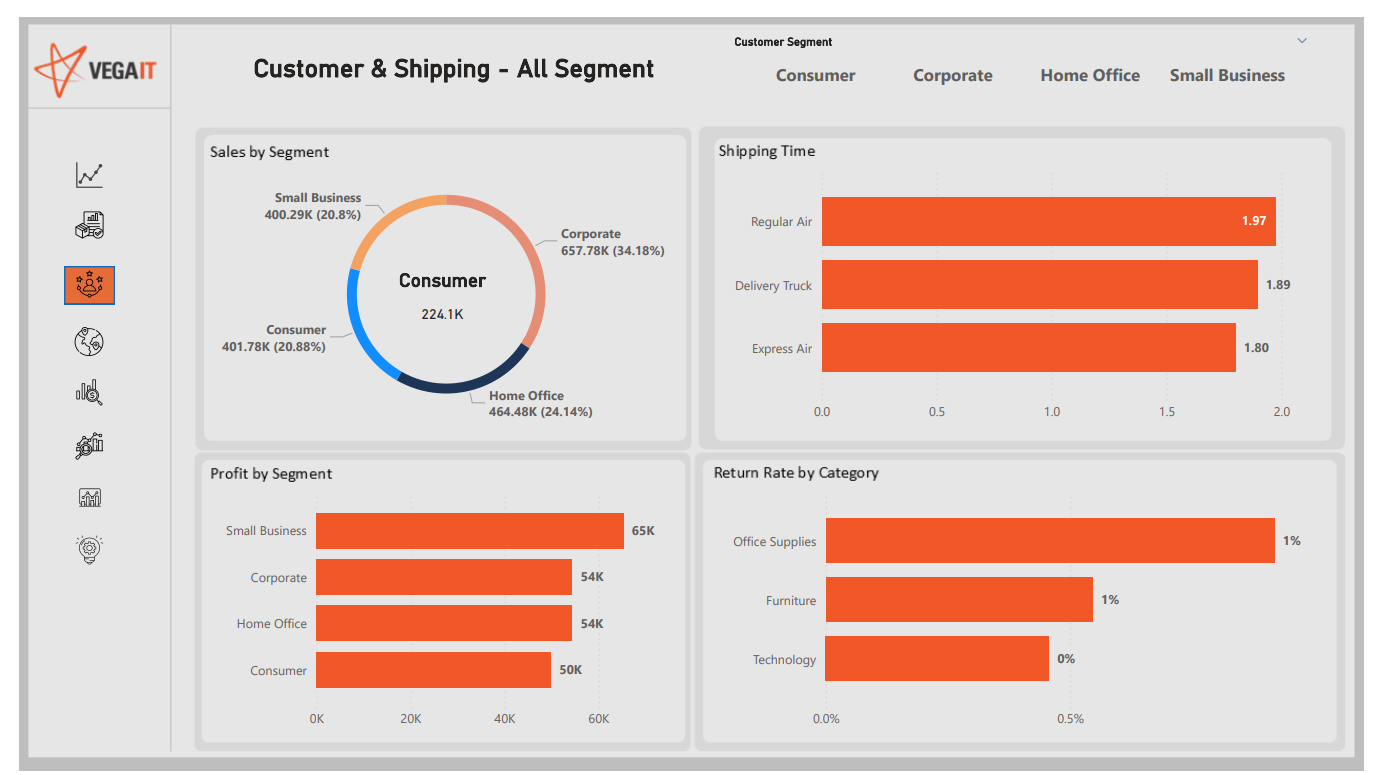

What the dashboard file says about the page in this screenshot:
{"tool":"powerbi","page":{"name":"Customer & Shipping","canvas":[1280,720],"ordinal":2},"visuals":[{"type":"donutChart","fields":{"Y":["Sum(VegaIT_clean_superstore_data.Sales)"],"Category":["VegaIT_clean_superstore_data.Customer Segment"]},"box":[184.5,135.2,443.8,259.3],"z":0},{"type":"shape","box":[42.9,238,47.6,36.5],"z":0,"group":"g1"},{"type":"card","fields":{"Values":["Min(VegaIT_clean_superstore_data.Customer Segment)"]},"box":[334,225.9,138.4,50.9],"z":1000},{"type":"card","fields":{"Values":["Sum(VegaIT_clean_superstore_data.Profit)"]},"box":[367.4,259.3,71.6,50.9],"z":2000},{"type":"slicer","fields":{"Values":["VegaIT_clean_superstore_data.Customer Segment"]},"box":[668.1,12.7,571,70],"z":3000},{"type":"barChart","fields":{"Category":["VegaIT_clean_superstore_data.Customer Segment"],"Y":["Sum(VegaIT_clean_superstore_data.Profit)"]},"box":[184.5,442.2,443.8,245],"z":4000},{"type":"barChart","fields":{"Category":["VegaIT_clean_superstore_data.Ship Mode"],"Y":["Avg(VegaIT_clean_superstore_data.Shipping Days)"]},"box":[668.1,135.2,571,259.3],"z":5000},{"type":"barChart","fields":{"Category":["VegaIT_clean_superstore_data.Product Category"],"Y":["Measure.Return Rate"]},"box":[668.1,442.2,571,245],"z":6000},{"type":"card","fields":{"Values":["Measure.Customer & SHipping"]},"box":[198.4,13.1,431.1,70.5],"z":7000},{"type":"image","box":[48.8,133.3,35.9,35.9],"z":8000},{"type":"image","box":[48.8,179.2,35.9,39.1],"z":9000},{"type":"image","box":[48.8,337.6,35.9,40.6],"z":10000},{"type":"image","box":[48.5,388.1,36.5,41.3],"z":11000},{"type":"image","box":[48.8,228.1,35.9,53.1],"z":12000,"group":"g1"},{"type":"image","box":[50.9,439.3,31.7,36.5],"z":12000},{"type":"image","box":[47.7,485.7,38.1,42.9],"z":13000},{"type":"image","box":[42.2,291.2,49.2,36.5],"z":14000},{"type":"group","id":"g1","title":"Group 1","box":[42.9,228.1,47.6,53.1],"z":15000}]}

Visuals, with their boxes in screenshot pixels (x1, y1, x2, y2), scaled from the page's 1280x720 canvas onto the 1377x775 screenshot:
donutChart - Sum(VegaIT_clean_superstore_data.Sales) x VegaIT_clean_superstore_data.Customer Segment: detection(198, 146, 676, 425)
shape: detection(46, 256, 97, 295)
card - Min(VegaIT_clean_superstore_data.Customer Segment): detection(359, 243, 508, 298)
card - Sum(VegaIT_clean_superstore_data.Profit): detection(395, 279, 472, 334)
slicer - VegaIT_clean_superstore_data.Customer Segment: detection(719, 14, 1333, 89)
barChart - VegaIT_clean_superstore_data.Customer Segment x Sum(VegaIT_clean_superstore_data.Profit): detection(198, 476, 676, 740)
barChart - VegaIT_clean_superstore_data.Ship Mode x Avg(VegaIT_clean_superstore_data.Shipping Days): detection(719, 146, 1333, 425)
barChart - VegaIT_clean_superstore_data.Product Category x Measure.Return Rate: detection(719, 476, 1333, 740)
card - Measure.Customer & SHipping: detection(213, 14, 677, 90)
image: detection(52, 143, 91, 182)
image: detection(52, 193, 91, 235)
image: detection(52, 363, 91, 407)
image: detection(52, 418, 91, 462)
image: detection(52, 246, 91, 303)
image: detection(55, 473, 89, 512)
image: detection(51, 523, 92, 569)
image: detection(45, 313, 98, 353)
"Group 1" group: detection(46, 246, 97, 303)
